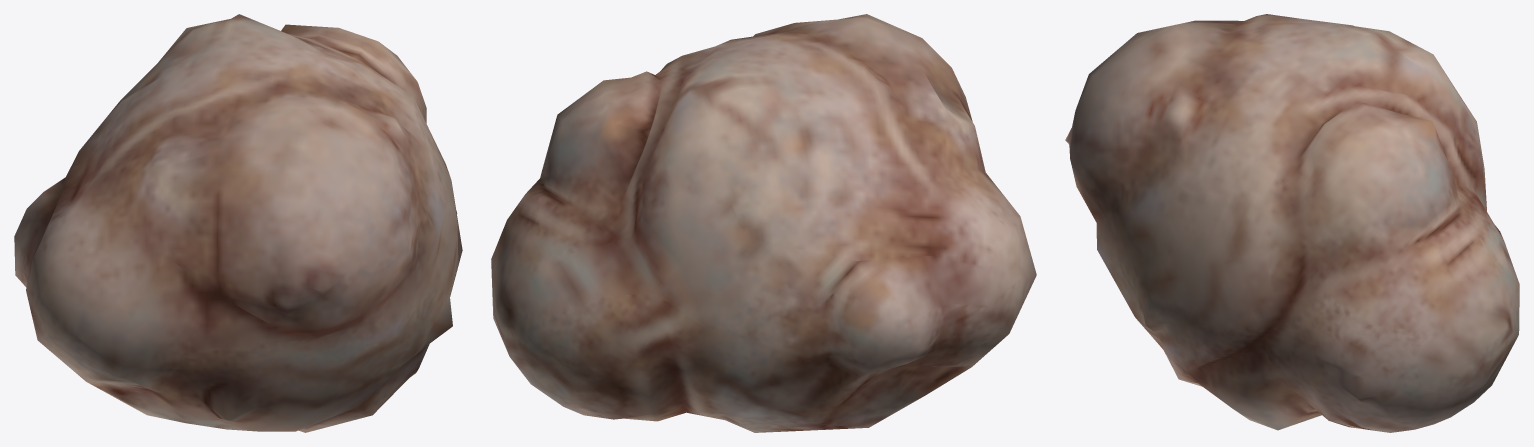
File: banshira_growth_01.fbx
The picture shows the model from 3 angles, left to right: view 1: azimuth 30°, elevation 25°; view 2: azimuth 150°, elevation 25°; view 3: azimuth 270°, elevation 25°; orthographic projection. The views are drawn at different scales.
Parts seen in each view (by area): view 1: Banshira_Growth_01; view 2: Banshira_Growth_01; view 3: Banshira_Growth_01.
Part boxes in pixels (x1,y1,x2,y2): Banshira_Growth_01: (14, 14, 462, 432); Banshira_Growth_01: (491, 14, 1036, 432); Banshira_Growth_01: (1065, 14, 1519, 432).
Bounding box in the file's own units: 81 × 63.21 × 72.1.
